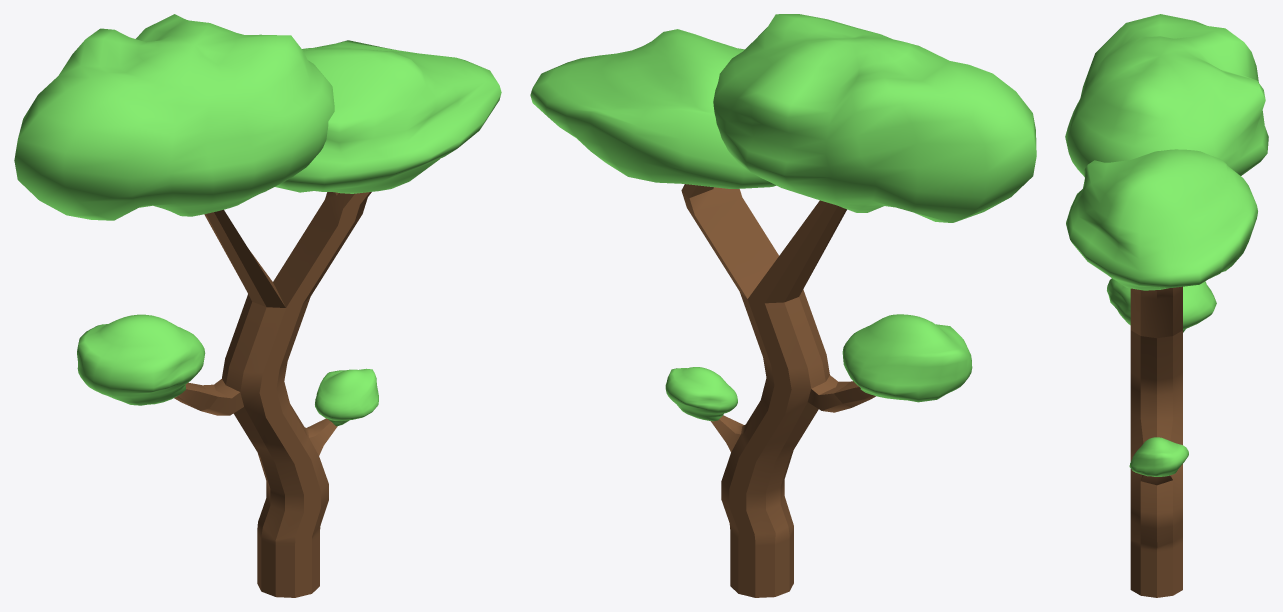
Rendered from leafyTree.glb.
3 views of the same model, side by side, from view 1: azimuth 30°, elevation 25°; view 2: azimuth 150°, elevation 25°; view 3: azimuth 270°, elevation 25° (orthographic). The views are drawn at different scales.
Visible parts, largest first — view 1: largestLeaves, treetrunk; view 2: largestLeaves, treetrunk; view 3: largestLeaves, treetrunk.
Boxes of the visible parts, x1,y1,x2,y2 form: largestLeaves: (14,14,501,426); treetrunk: (174,192,371,597); largestLeaves: (530,14,1036,421); treetrunk: (681,184,875,597); largestLeaves: (1065,14,1268,476); treetrunk: (1130,286,1182,597).
Bounding box in the file's own units: 7.34 × 8.17 × 3.06.
